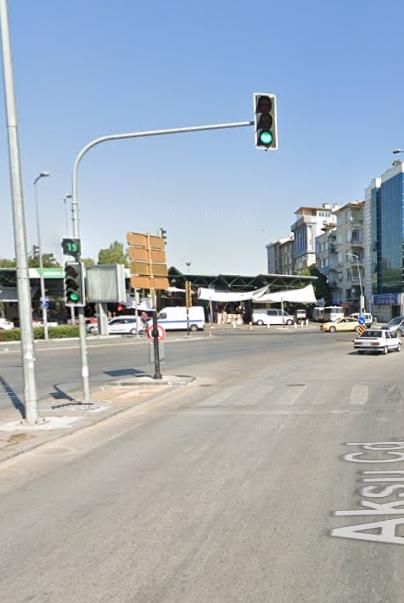greenlight: (253, 93, 275, 147), (65, 261, 85, 304)
